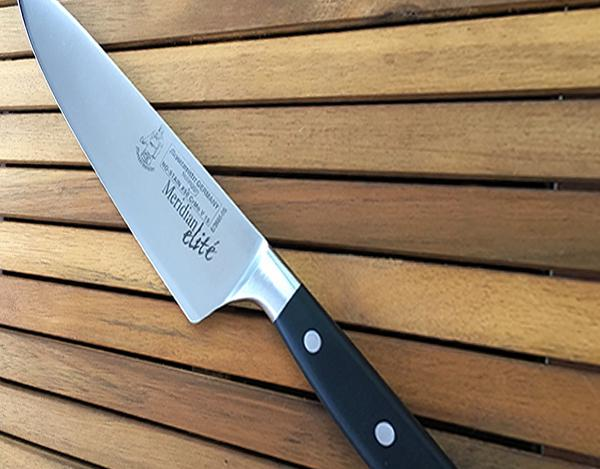knife: (17, 1, 460, 469)
